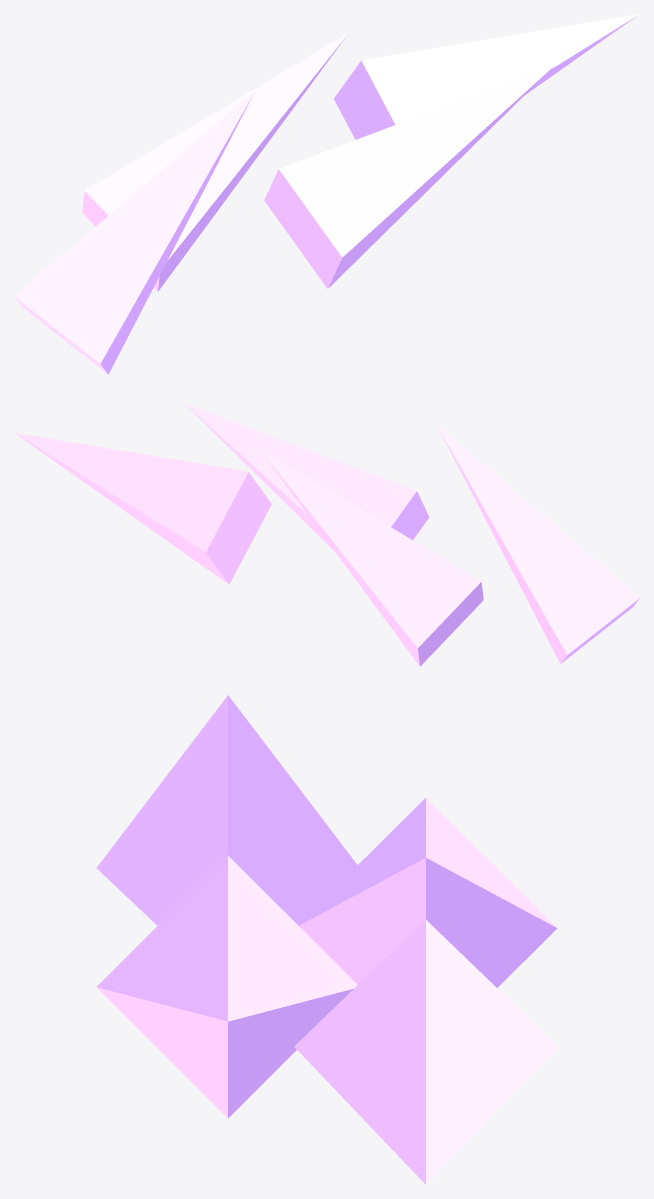
Rendered from shards.glb.
3 views of the same model, one above another, from view 1: azimuth 30°, elevation 25°; view 2: azimuth 150°, elevation 25°; view 3: azimuth 270°, elevation 25° (orthographic). The views are drawn at different scales.
Visible parts, largest first — view 1: shards; view 2: shards; view 3: shards.
Boxes of the visible parts, x1=… form: shards: x1=14, y1=14, x2=639, y2=374; shards: x1=14, y1=403, x2=639, y2=666; shards: x1=96, y1=695, x2=557, y2=1184.
Size of the model in its own units: 0.4041 by 0.1402 by 0.14.
